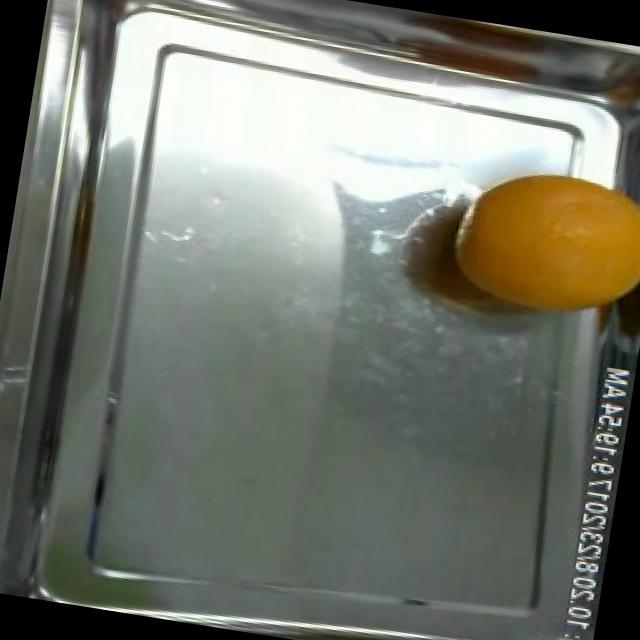Fruit: (437, 154, 640, 344)
